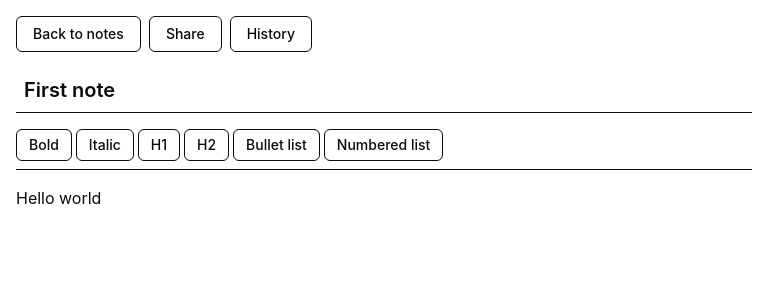
NoteEditorPage › Navigating back to the notes list flushes a pending save first
Replace the text in the field showing "First note" with "Renamed note" at [384, 90], box [16,68,752,113]
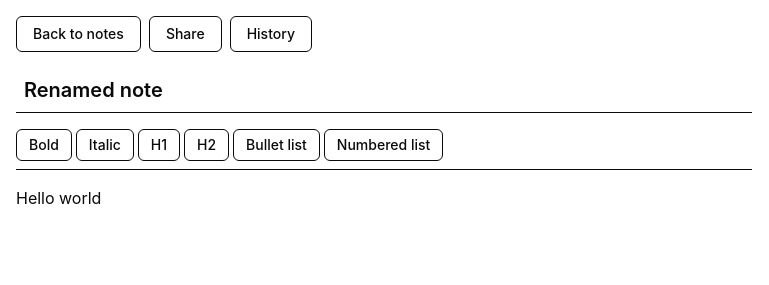
Click the button "Back to notes" at [78, 34], box [16,16,141,52]
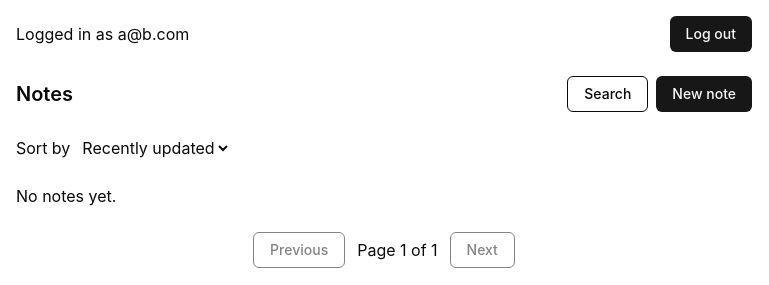
Check: the text "No notes yet." is shown, box [16,186,116,206]
